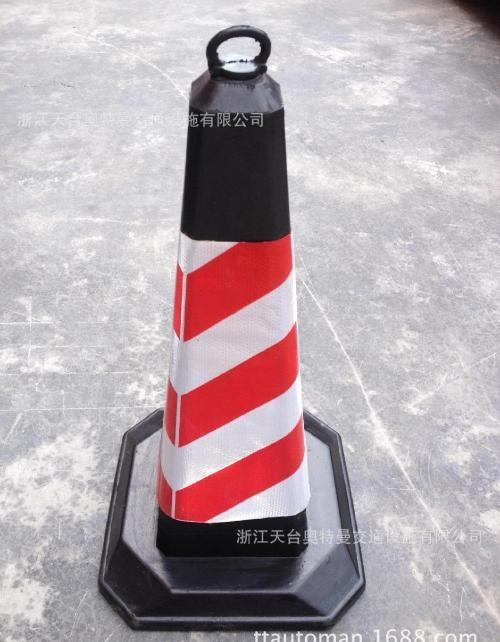cone_barrel: (122, 32, 336, 602)
